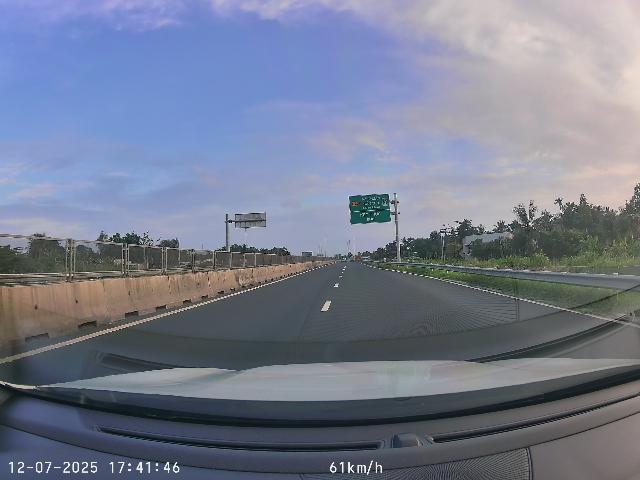438-ket-thuc-duong-cao-toc: (381, 198, 388, 206)
